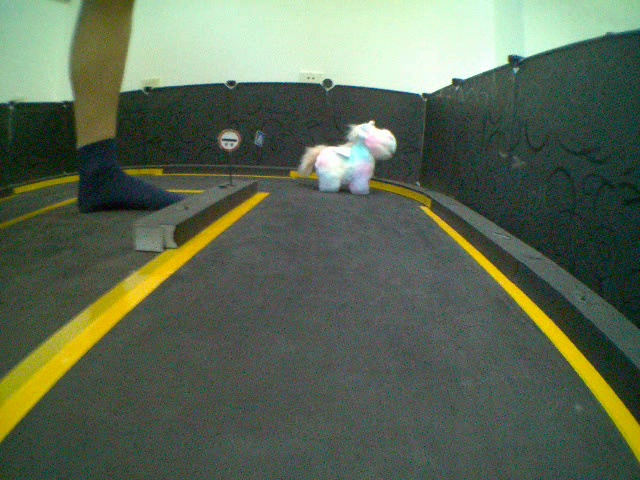unicorn: (293, 116, 399, 197)
